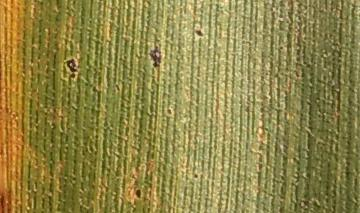tarspot: (147, 43, 163, 69), (63, 56, 80, 72), (193, 27, 206, 39), (133, 187, 144, 200), (68, 69, 76, 80), (164, 107, 174, 115), (192, 170, 200, 180)
